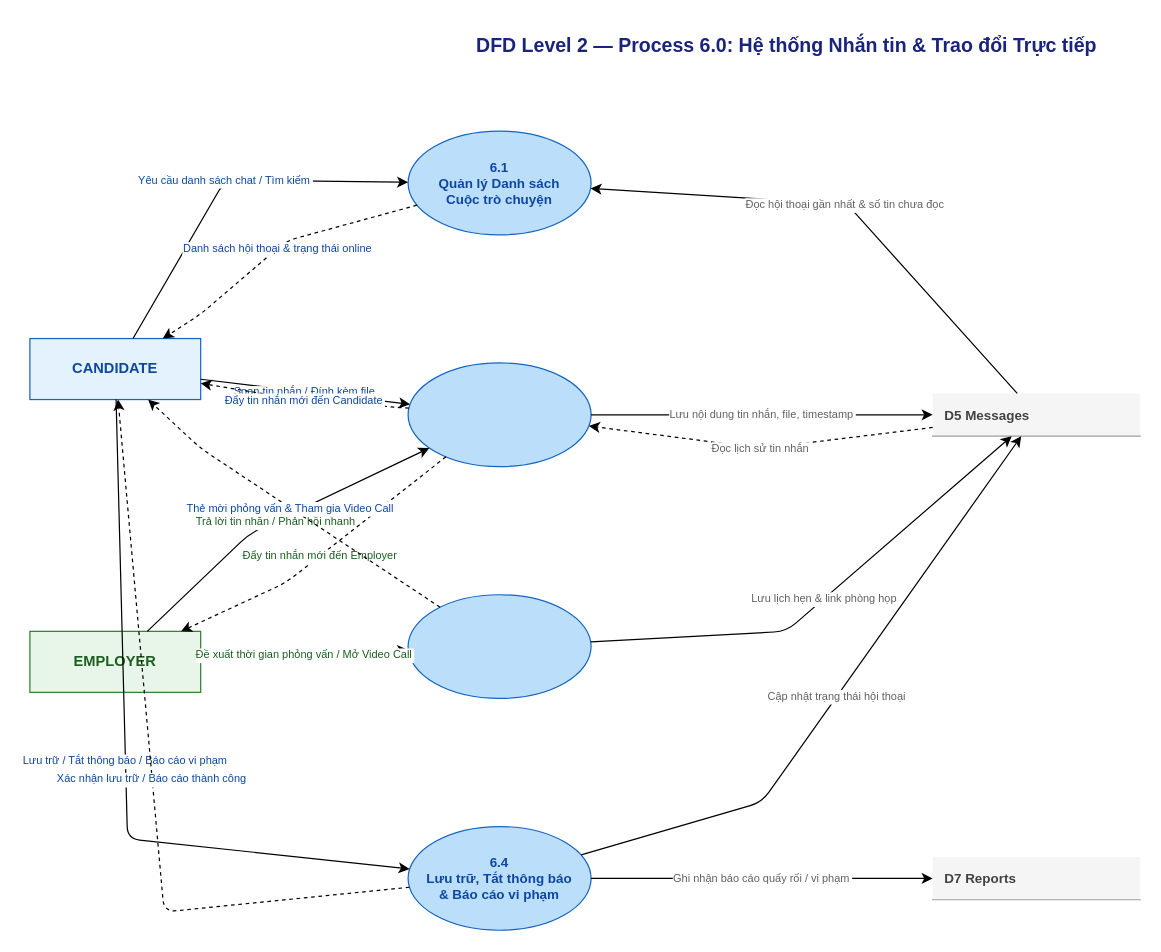
This 1161x952 diagram has some shape labels left out. Each missing label, with the box of its shape:
6.2 Gửi / Nhận Tin nhắn & Đính kèm Tệp: (407, 362, 591, 467)
6.3 Xếp lịch Phỏng vấn & Video Call: (407, 594, 591, 698)
